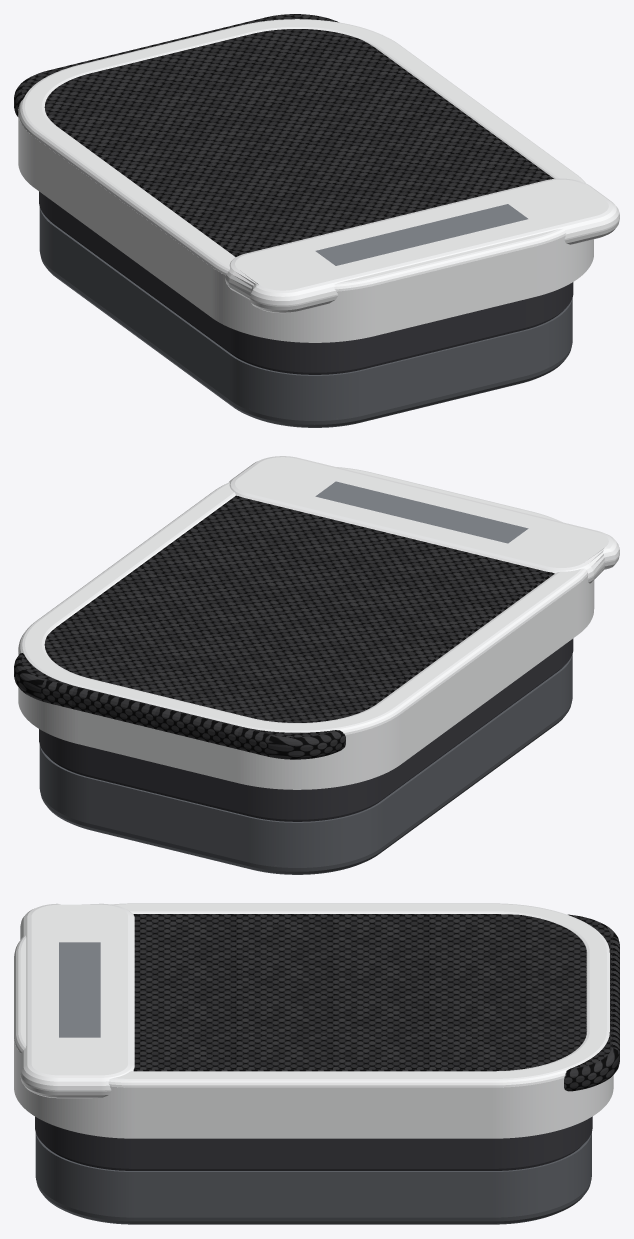
Rendered from whoop-pod-draco.glb.
3 views of the same model, one above another, from view 1: azimuth 30°, elevation 25°; view 2: azimuth 150°, elevation 25°; view 3: azimuth 270°, elevation 25° (orthographic).
Parts seen in each view (by area): view 1: part_band, part_bottom, part_top; view 2: part_band, part_bottom, part_top; view 3: part_band, part_bottom, part_top.
Boxes of the visible parts, bbox=[...] form: part_band: bbox=[14, 14, 619, 342]; part_bottom: bbox=[39, 207, 572, 427]; part_top: bbox=[39, 191, 573, 372]; part_band: bbox=[14, 456, 619, 789]; part_bottom: bbox=[39, 654, 572, 874]; part_top: bbox=[39, 638, 573, 819]; part_band: bbox=[14, 903, 619, 1138]; part_bottom: bbox=[35, 1132, 591, 1224]; part_top: bbox=[35, 1116, 592, 1168].
Bounding box in the file's own units: 0.0266 × 0.0112 × 0.0377.
32 materials, 15 textured.
